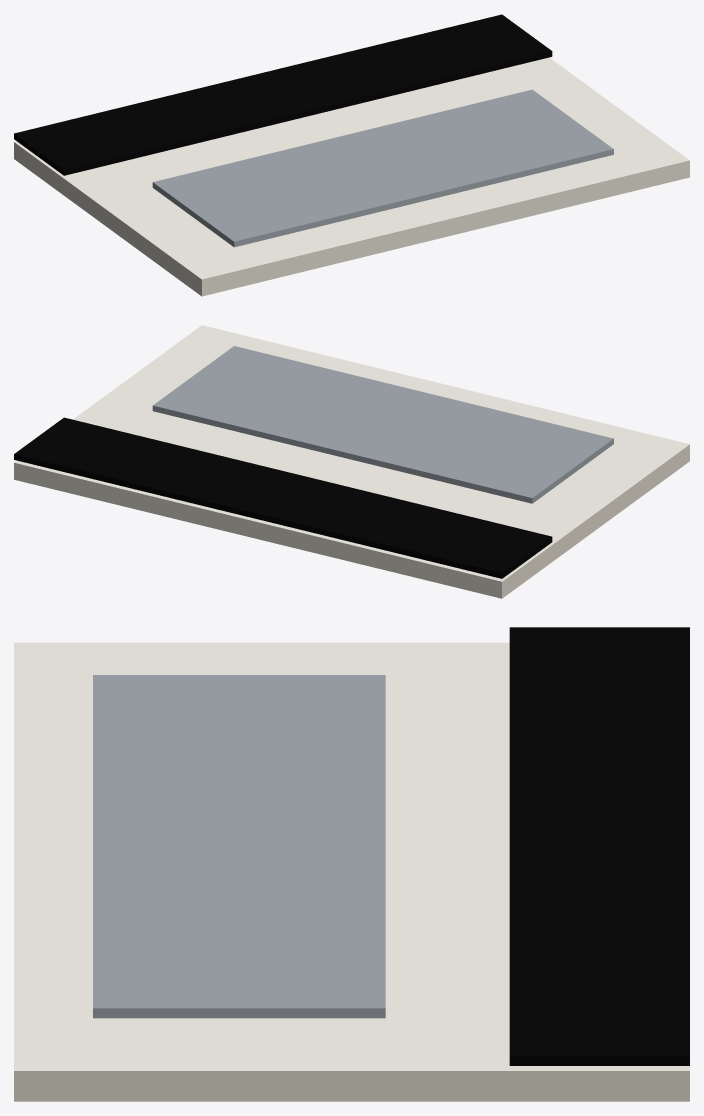
File: Item_scratch.fbx
3 views of the same model, one above another, from view 1: azimuth 30°, elevation 25°; view 2: azimuth 150°, elevation 25°; view 3: azimuth 270°, elevation 25° (orthographic). The views are drawn at different scales.
Parts seen in each view (by area): view 1: Card, Silver, Band.003; view 2: Card, Silver, Band.003; view 3: Card, Silver, Band.003.
Boxes of the visible parts, bbox=[...] form: Card: bbox=[14, 57, 689, 296]; Silver: bbox=[152, 89, 613, 247]; Band.003: bbox=[14, 14, 552, 175]; Card: bbox=[14, 325, 689, 598]; Silver: bbox=[152, 346, 613, 503]; Band.003: bbox=[14, 417, 552, 578]; Card: bbox=[14, 642, 689, 1101]; Silver: bbox=[93, 675, 385, 1018]; Band.003: bbox=[509, 627, 689, 1065].
Size of the model in its own units: 0.1215 by 0.00608 by 0.081.
